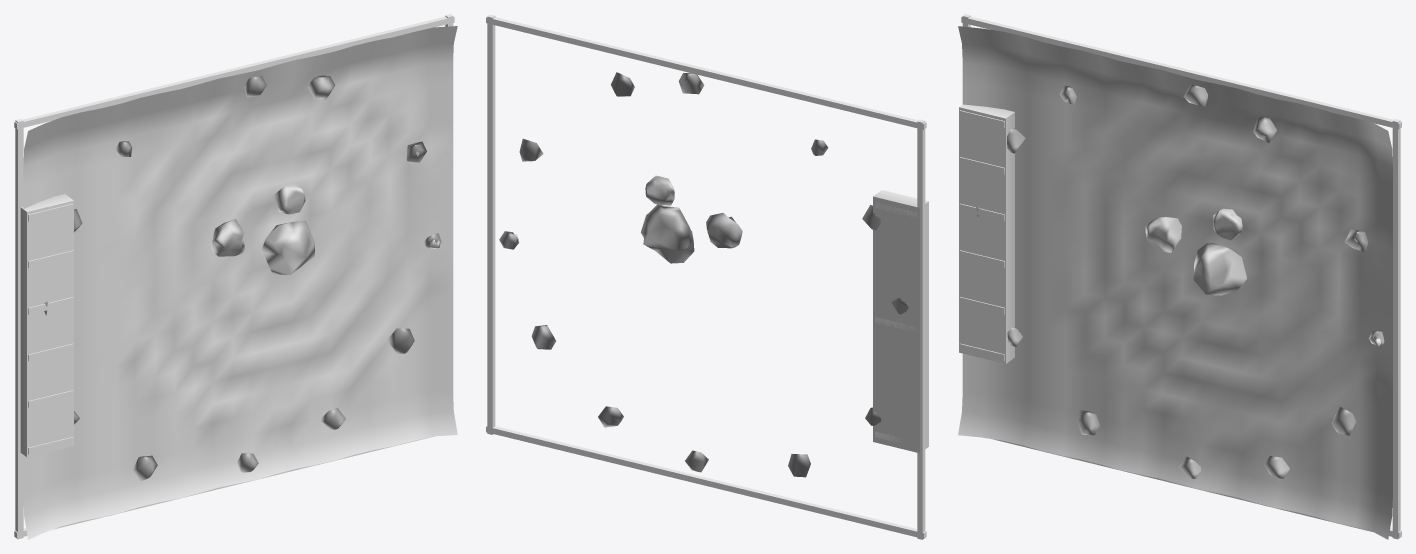
Rendered from SM_Karesansui_Frame.glb.
3 views of the same model, side by side, from view 1: azimuth 30°, elevation 25°; view 2: azimuth 150°, elevation 25°; view 3: azimuth 330°, elevation 25° (orthographic).
Visible parts, largest first — view 1: asset_karesansui_frame; view 2: asset_karesansui_frame; view 3: asset_karesansui_frame.
Part boxes in pixels (<box>): asset_karesansui_frame: <box>14,14,457,539</box>; asset_karesansui_frame: <box>486,14,928,539</box>; asset_karesansui_frame: <box>958,14,1401,539</box>.
Bounding box in the file's own units: 11.2 × 10.2 × 1.07.
3 materials, 3 textured.
